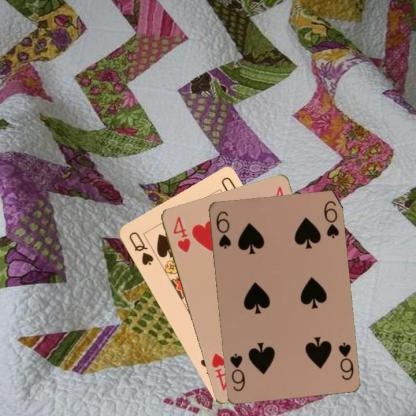4h: (170, 213, 192, 254)
6s: (213, 208, 232, 250), (336, 339, 354, 381)
Qs: (126, 229, 155, 267)
